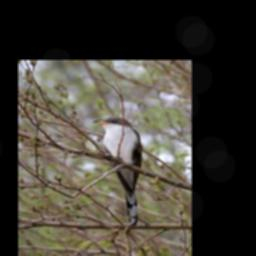Cuckoo: (93, 115, 144, 224)
